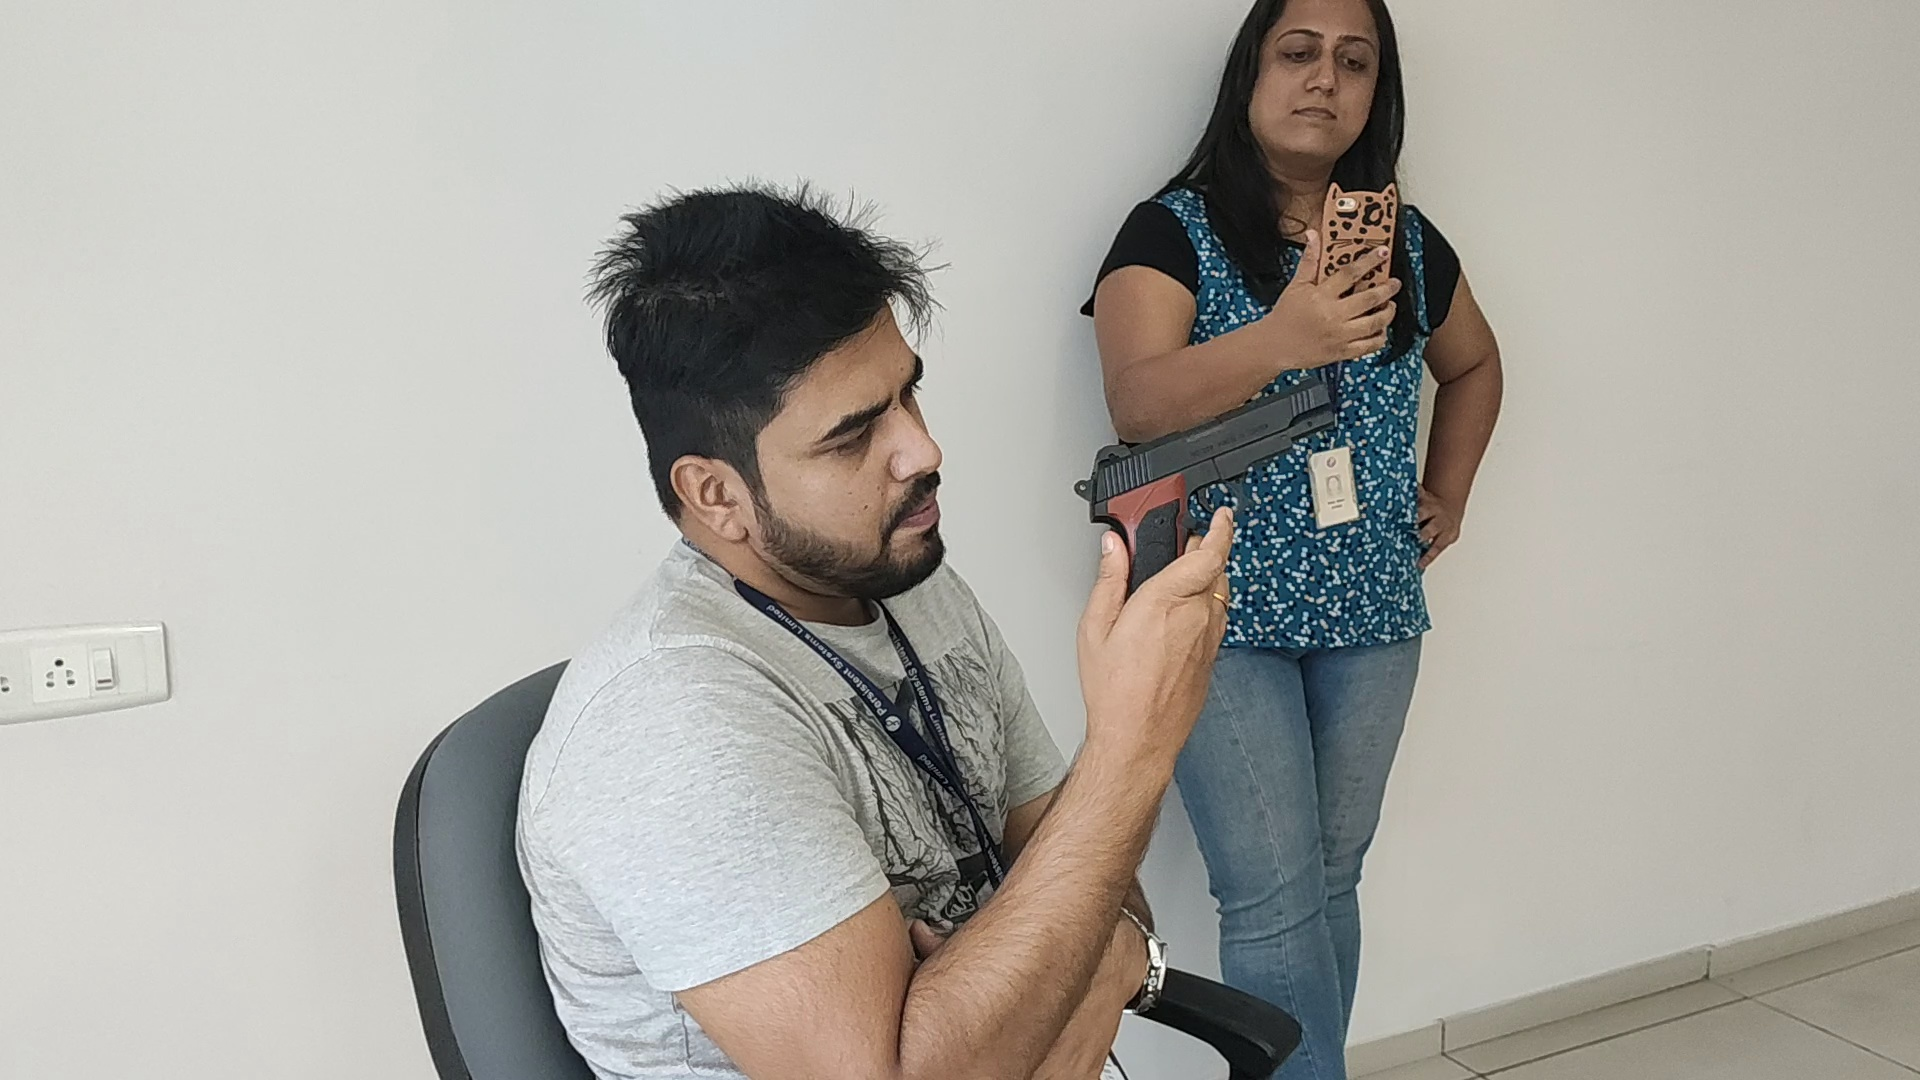gun: (1073, 377, 1336, 505)
